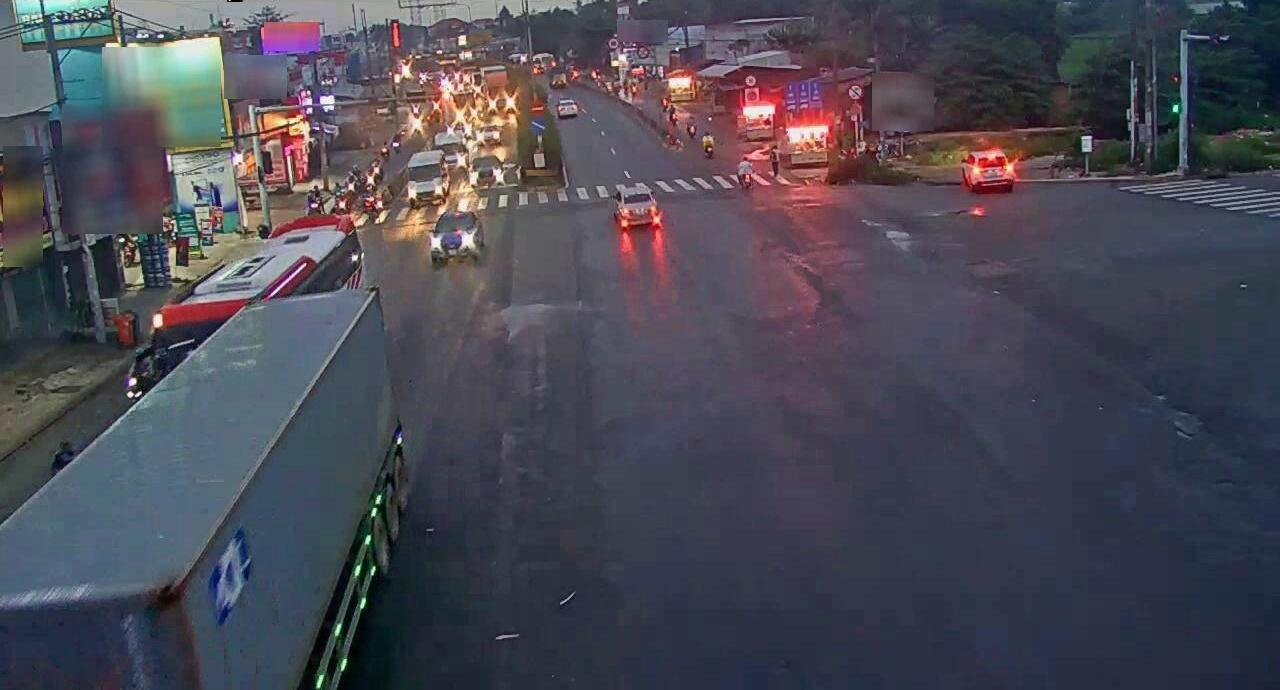xe container: (0, 264, 423, 690)
xe hoi: (610, 180, 665, 237), (433, 209, 481, 259)
